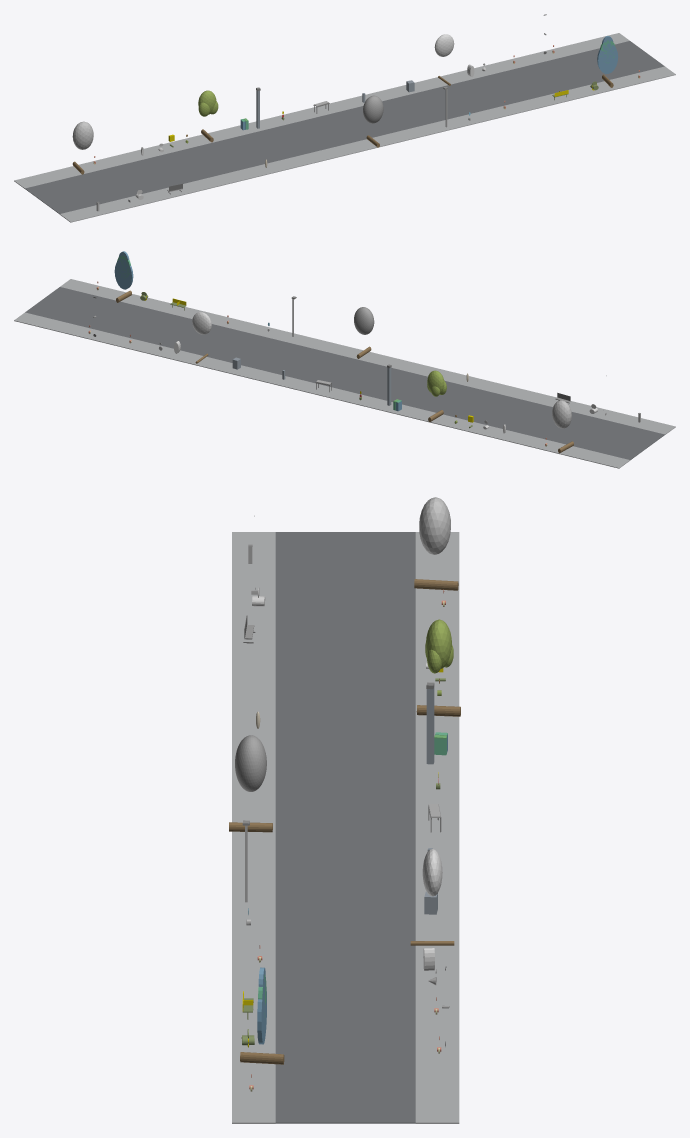
3 views of the same model, one above another, from view 1: azimuth 30°, elevation 25°; view 2: azimuth 150°, elevation 25°; view 3: azimuth 270°, elevation 25° (orthographic). The views are drawn at different scales.
Parts seen in each view (by area): view 1: road_slab, sidewalk_left, sidewalk_right, inst_0016, inst_0012, inst_0014, inst_0013, inst_0015; view 2: road_slab, sidewalk_right, sidewalk_left, inst_0016, inst_0012, inst_0014, inst_0013, inst_0015; view 3: road_slab, sidewalk_left, sidewalk_right, inst_0012, inst_0014, inst_0013, inst_0016, inst_0015.
Boxes of the visible parts, <box> form: road_slab: <box>25,41,664,214</box>; sidewalk_left: <box>60,66,675,222</box>; sidewalk_right: <box>14,33,629,188</box>; inst_0016: <box>597,36,618,87</box>; inst_0012: <box>72,121,93,174</box>; inst_0014: <box>363,95,383,147</box>; inst_0013: <box>198,90,218,142</box>; inst_0015: <box>434,34,454,85</box>; road_slab: <box>25,287,664,460</box>; sidewalk_right: <box>14,312,629,468</box>; sidewalk_left: <box>60,279,675,434</box>; inst_0016: <box>114,251,133,302</box>; inst_0012: <box>552,400,573,453</box>; inst_0014: <box>354,307,374,358</box>; inst_0013: <box>427,370,446,421</box>; inst_0015: <box>192,312,211,363</box>; road_slab: <box>275,532,415,1123</box>; sidewalk_left: <box>232,532,275,1123</box>; sidewalk_right: <box>415,532,459,1123</box>; inst_0012: <box>414,497,458,590</box>; inst_0014: <box>229,735,272,832</box>; inst_0013: <box>416,619,460,716</box>; inst_0016: <box>240,967,284,1064</box>; inst_0015: <box>410,849,454,945</box>.
Size of the model in its own units: 80 by 6.08 by 13.28.
